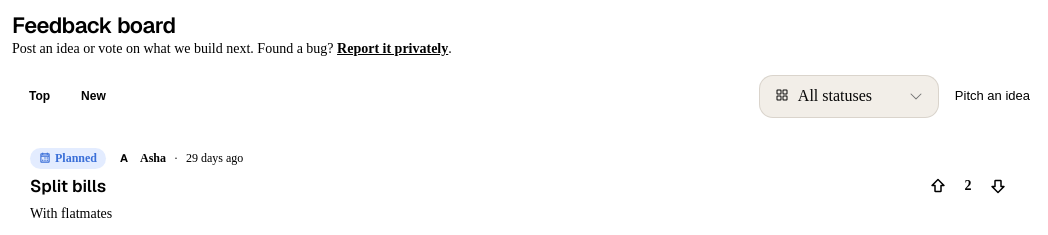
upvotes optimistically, then a second tap on the same arrow clears it
Check: the text "Split bills" is shown, box left=30, top=175, right=106, bottom=197
What coordinates should you click on to do the following:
click the button named "Upvote"
I would click on:
 (938, 186)
Its box is left=922, top=170, right=954, bottom=202.
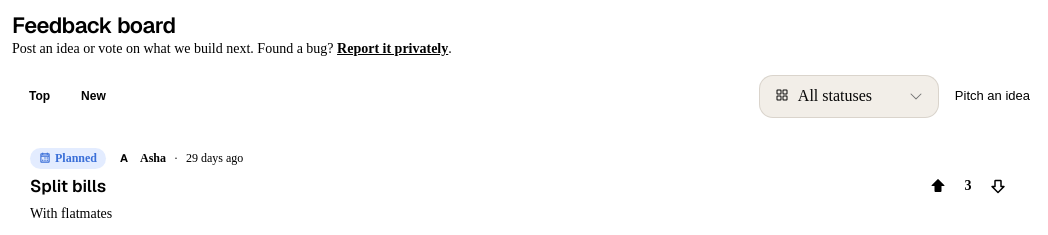
Check: the element named "Votes, score 3" is shown, box left=918, top=166, right=1018, bottom=206
What coordinates should you click on to do the following:
click the button named "Upvote"
I would click on:
 (938, 186)
Its box is left=922, top=170, right=954, bottom=202.
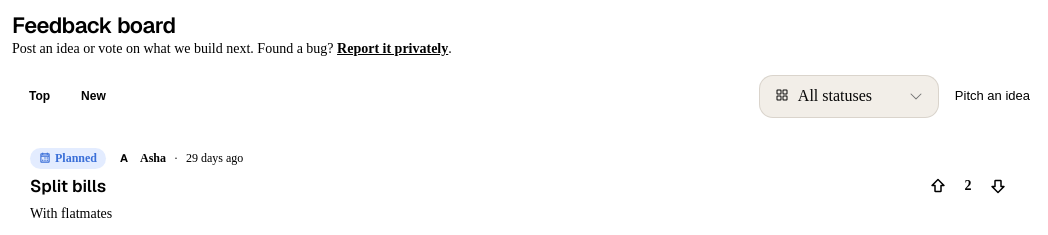
Check: the element named "Votes, score 2" is shown, box left=918, top=166, right=1018, bottom=206
